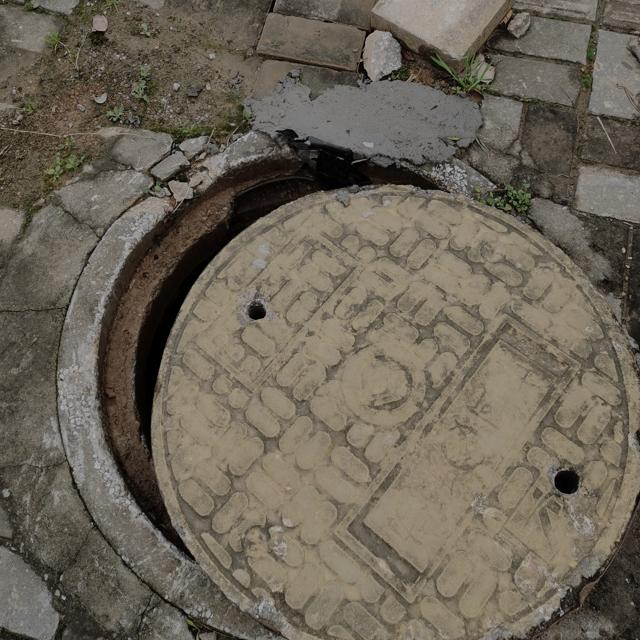uncovered: (65, 148, 570, 616)
